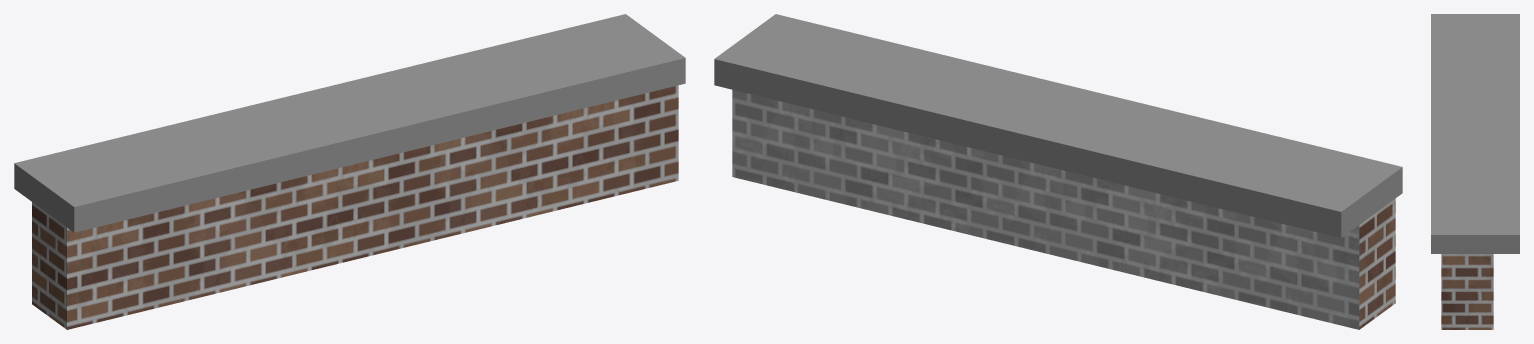
The model's file is Roof_Wall_001.FBX.
3 renders of one model, left to right at view 1: azimuth 30°, elevation 25°; view 2: azimuth 150°, elevation 25°; view 3: azimuth 270°, elevation 25°, orthographic. The views are drawn at different scales.
Visible parts, largest first — view 1: Roof_Wall_001; view 2: Roof_Wall_001; view 3: Roof_Wall_001.
Boxes of the visible parts, bbox=[...] form: Roof_Wall_001: bbox=[14, 14, 685, 329]; Roof_Wall_001: bbox=[714, 14, 1402, 329]; Roof_Wall_001: bbox=[1431, 14, 1519, 329].
Bounding box in the file's own units: 500 × 85 × 100.
